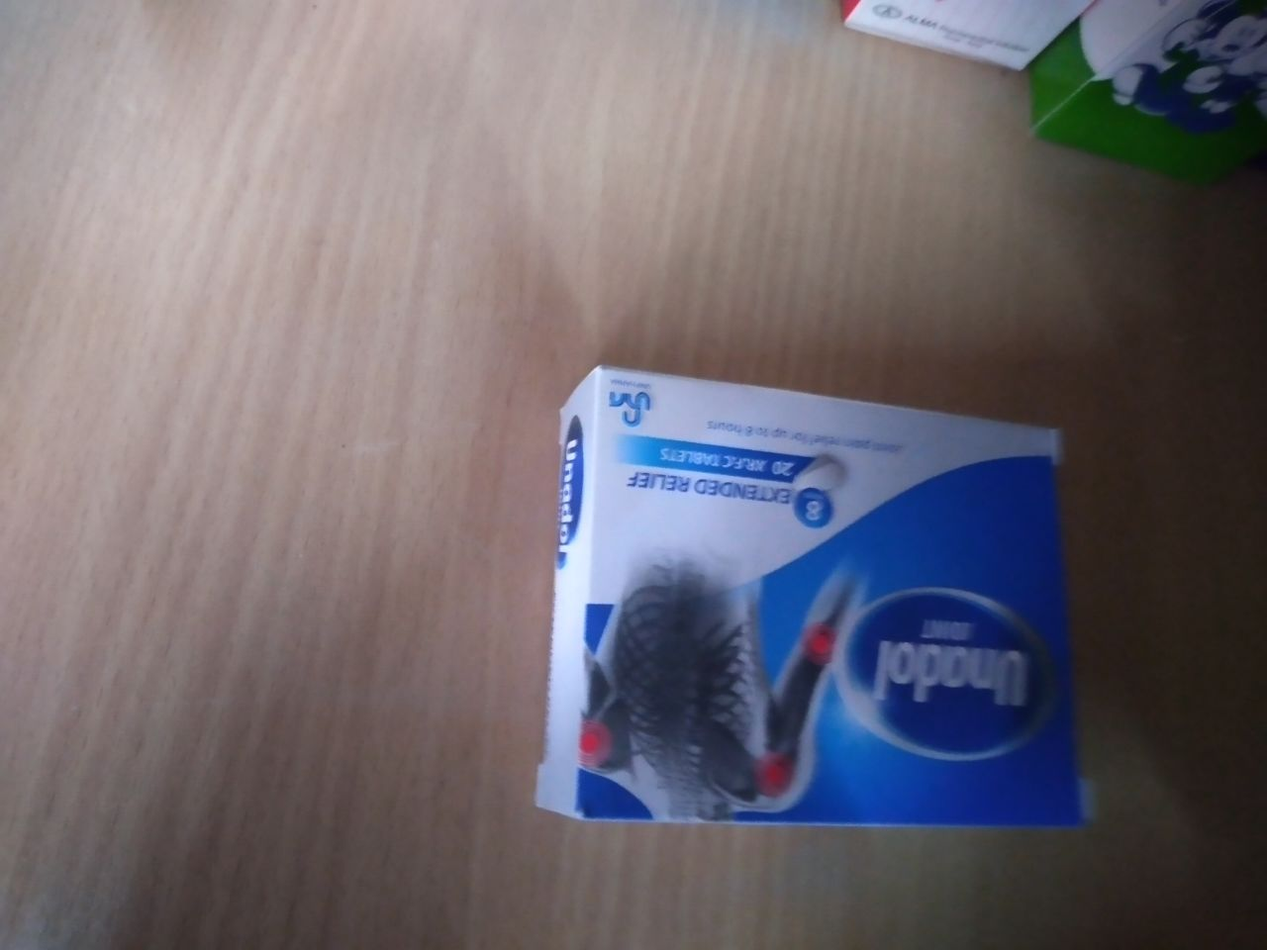Medicine: (532, 344, 1116, 876)
